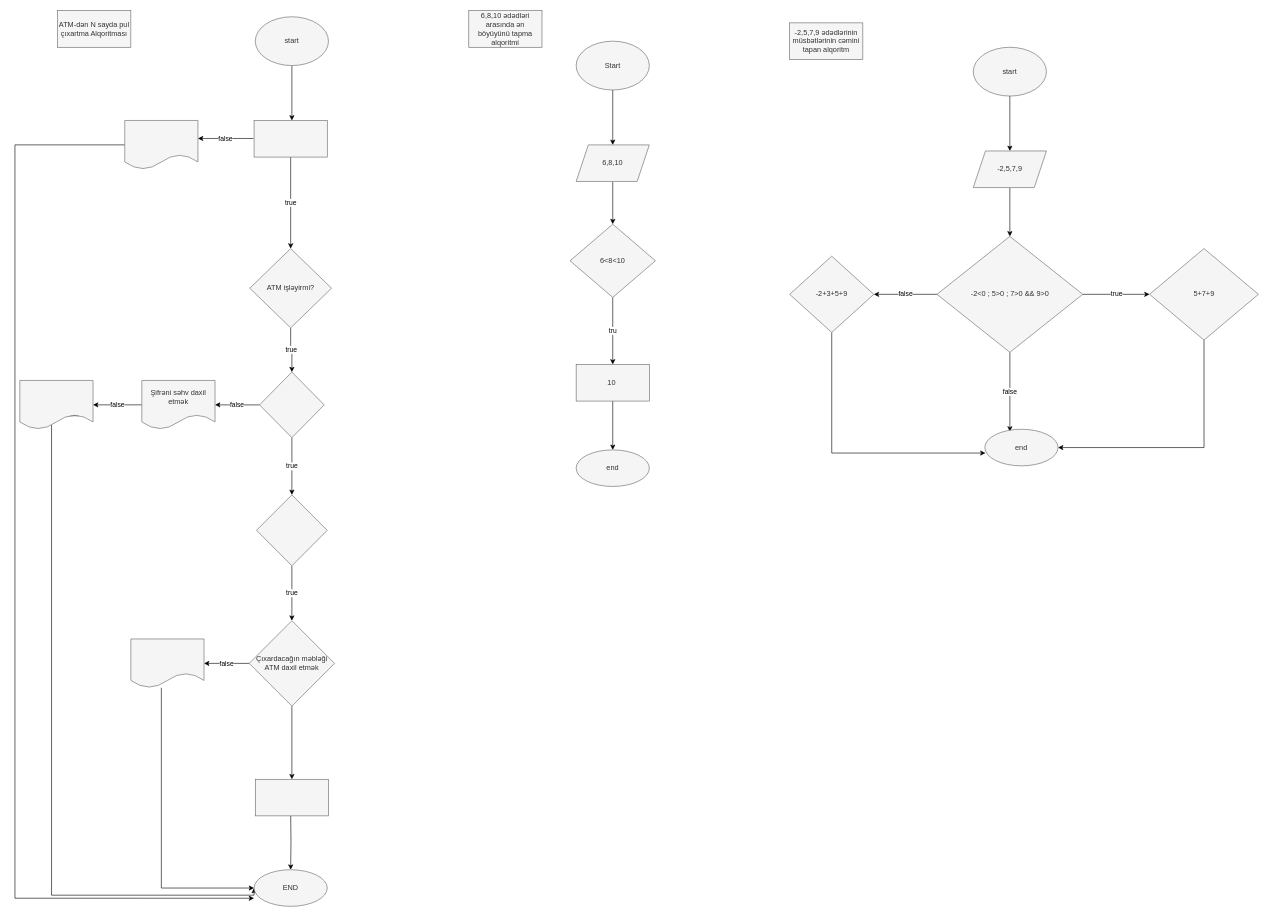
Some shapes in this 1269 by 917 pixel diagram are drawn without their labels. Each missing label, with the box of its shape:
ATM -də pul yoxdur: (130, 638, 204, 688)
Bankomat işləmir: (124, 120, 198, 169)
Bankomata yaxınlaşmaq: (253, 120, 327, 157)
kartı daxil etmək: (259, 371, 324, 438)
kartı çıxart: (19, 380, 93, 429)
Pulu ATM-dən götürmək: (255, 779, 328, 816)
Şifrəni doğru daxil etmək: (256, 494, 327, 566)
